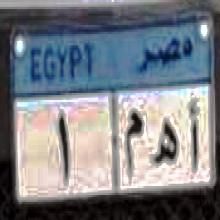1: (54, 108, 77, 186)
alif: (183, 96, 207, 175)
haa: (150, 115, 182, 172)
meem: (122, 110, 146, 182)
